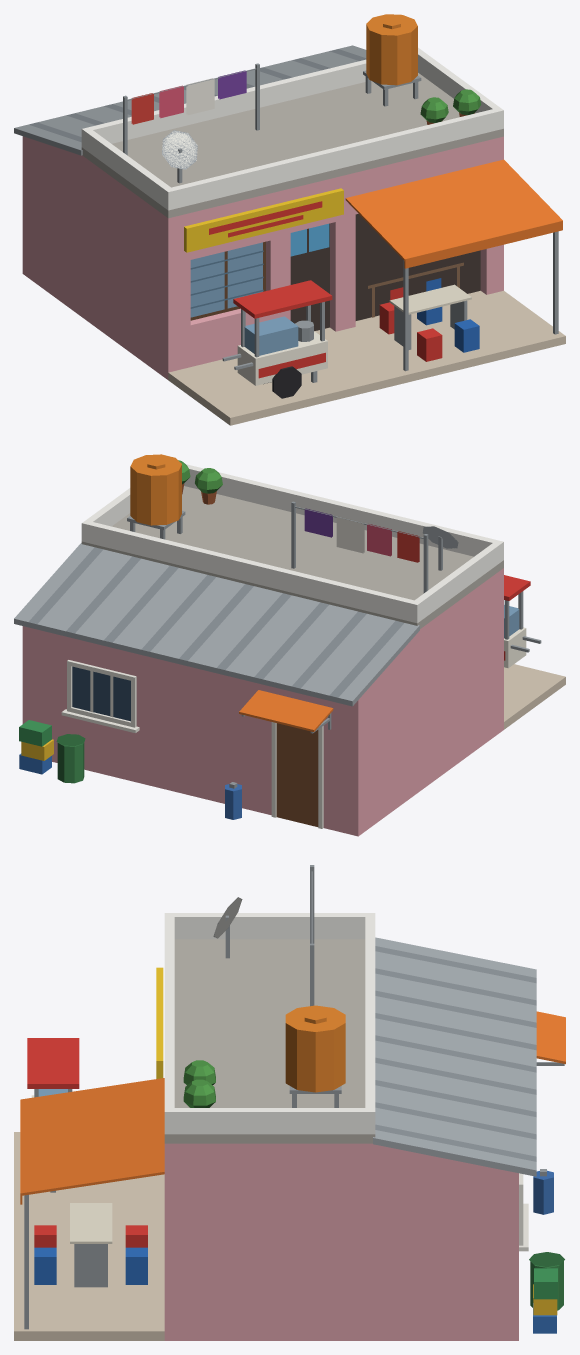
The model's file is warung_08.glb.
The picture shows the model from 3 angles, top to bottom: view 1: azimuth 30°, elevation 25°; view 2: azimuth 150°, elevation 25°; view 3: azimuth 270°, elevation 25°; orthographic projection. The views are drawn at different scales.
Parts seen in each view (by area): view 1: warung_08; view 2: warung_08; view 3: warung_08.
Boxes of the visible parts, box(x1,y1,x2,y2) form: warung_08: box(14, 14, 565, 425); warung_08: box(14, 454, 565, 836); warung_08: box(14, 865, 565, 1340).
Bounding box in the file's own units: 6.78 × 4.66 × 7.87.
